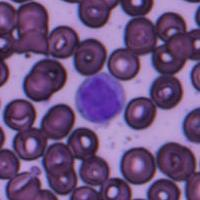L: (76, 72, 125, 125)
